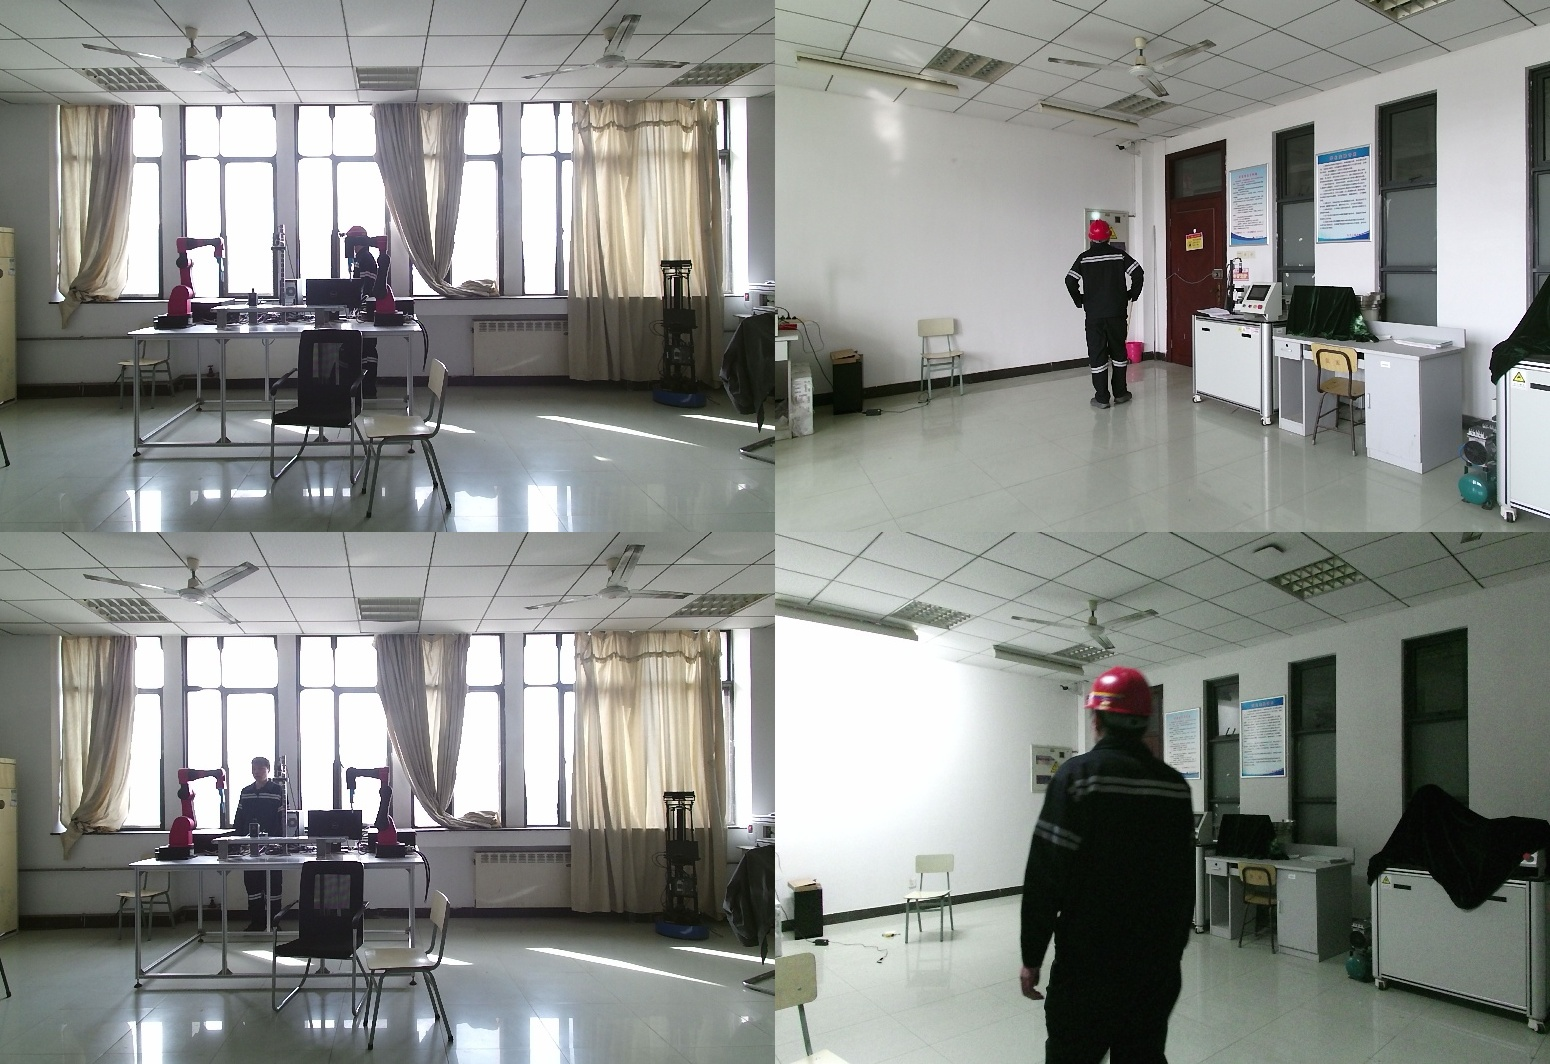person: (1021, 667, 1217, 1064), (1065, 221, 1149, 420), (233, 758, 288, 941), (335, 225, 379, 398)
